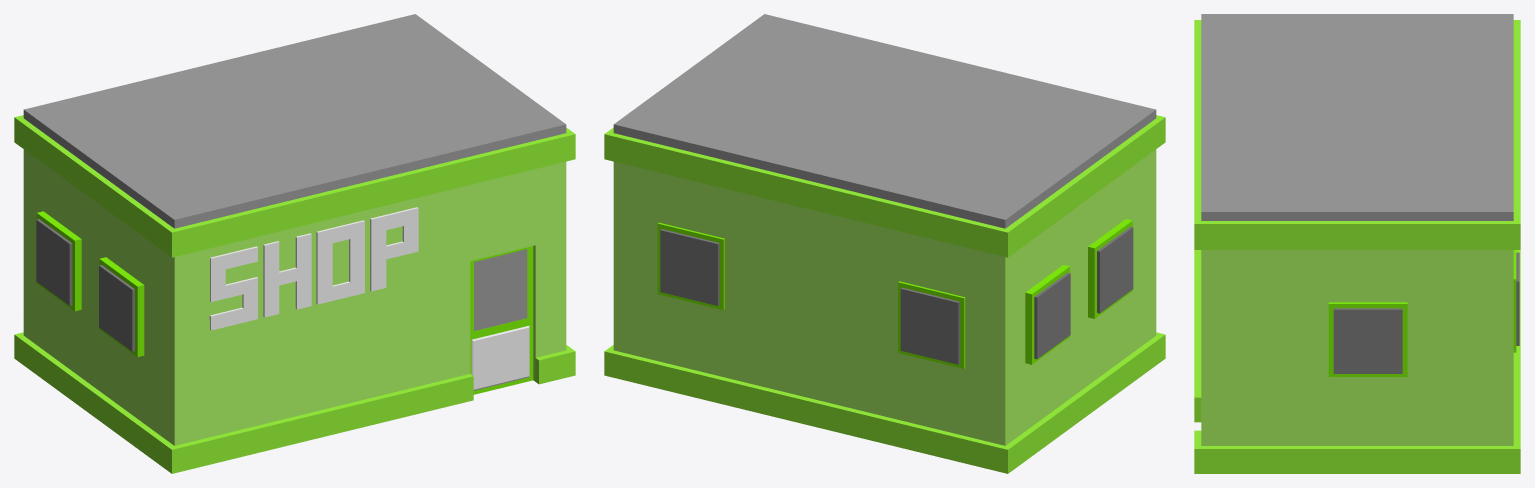
The model's file is SM_House_02_03.FBX.
The picture shows the model from 3 angles, left to right: view 1: azimuth 30°, elevation 25°; view 2: azimuth 150°, elevation 25°; view 3: azimuth 270°, elevation 25°; orthographic projection. The views are drawn at different scales.
Parts seen in each view (by area): view 1: SM_House_02_03; view 2: SM_House_02_03; view 3: SM_House_02_03.
Part boxes in pixels (bbox=[...]): SM_House_02_03: bbox=[14, 14, 575, 473]; SM_House_02_03: bbox=[604, 14, 1165, 473]; SM_House_02_03: bbox=[1194, 14, 1520, 473].
Bounding box in the file's own units: 6.24 × 3.66 × 4.18.
1 material, 1 textured.
